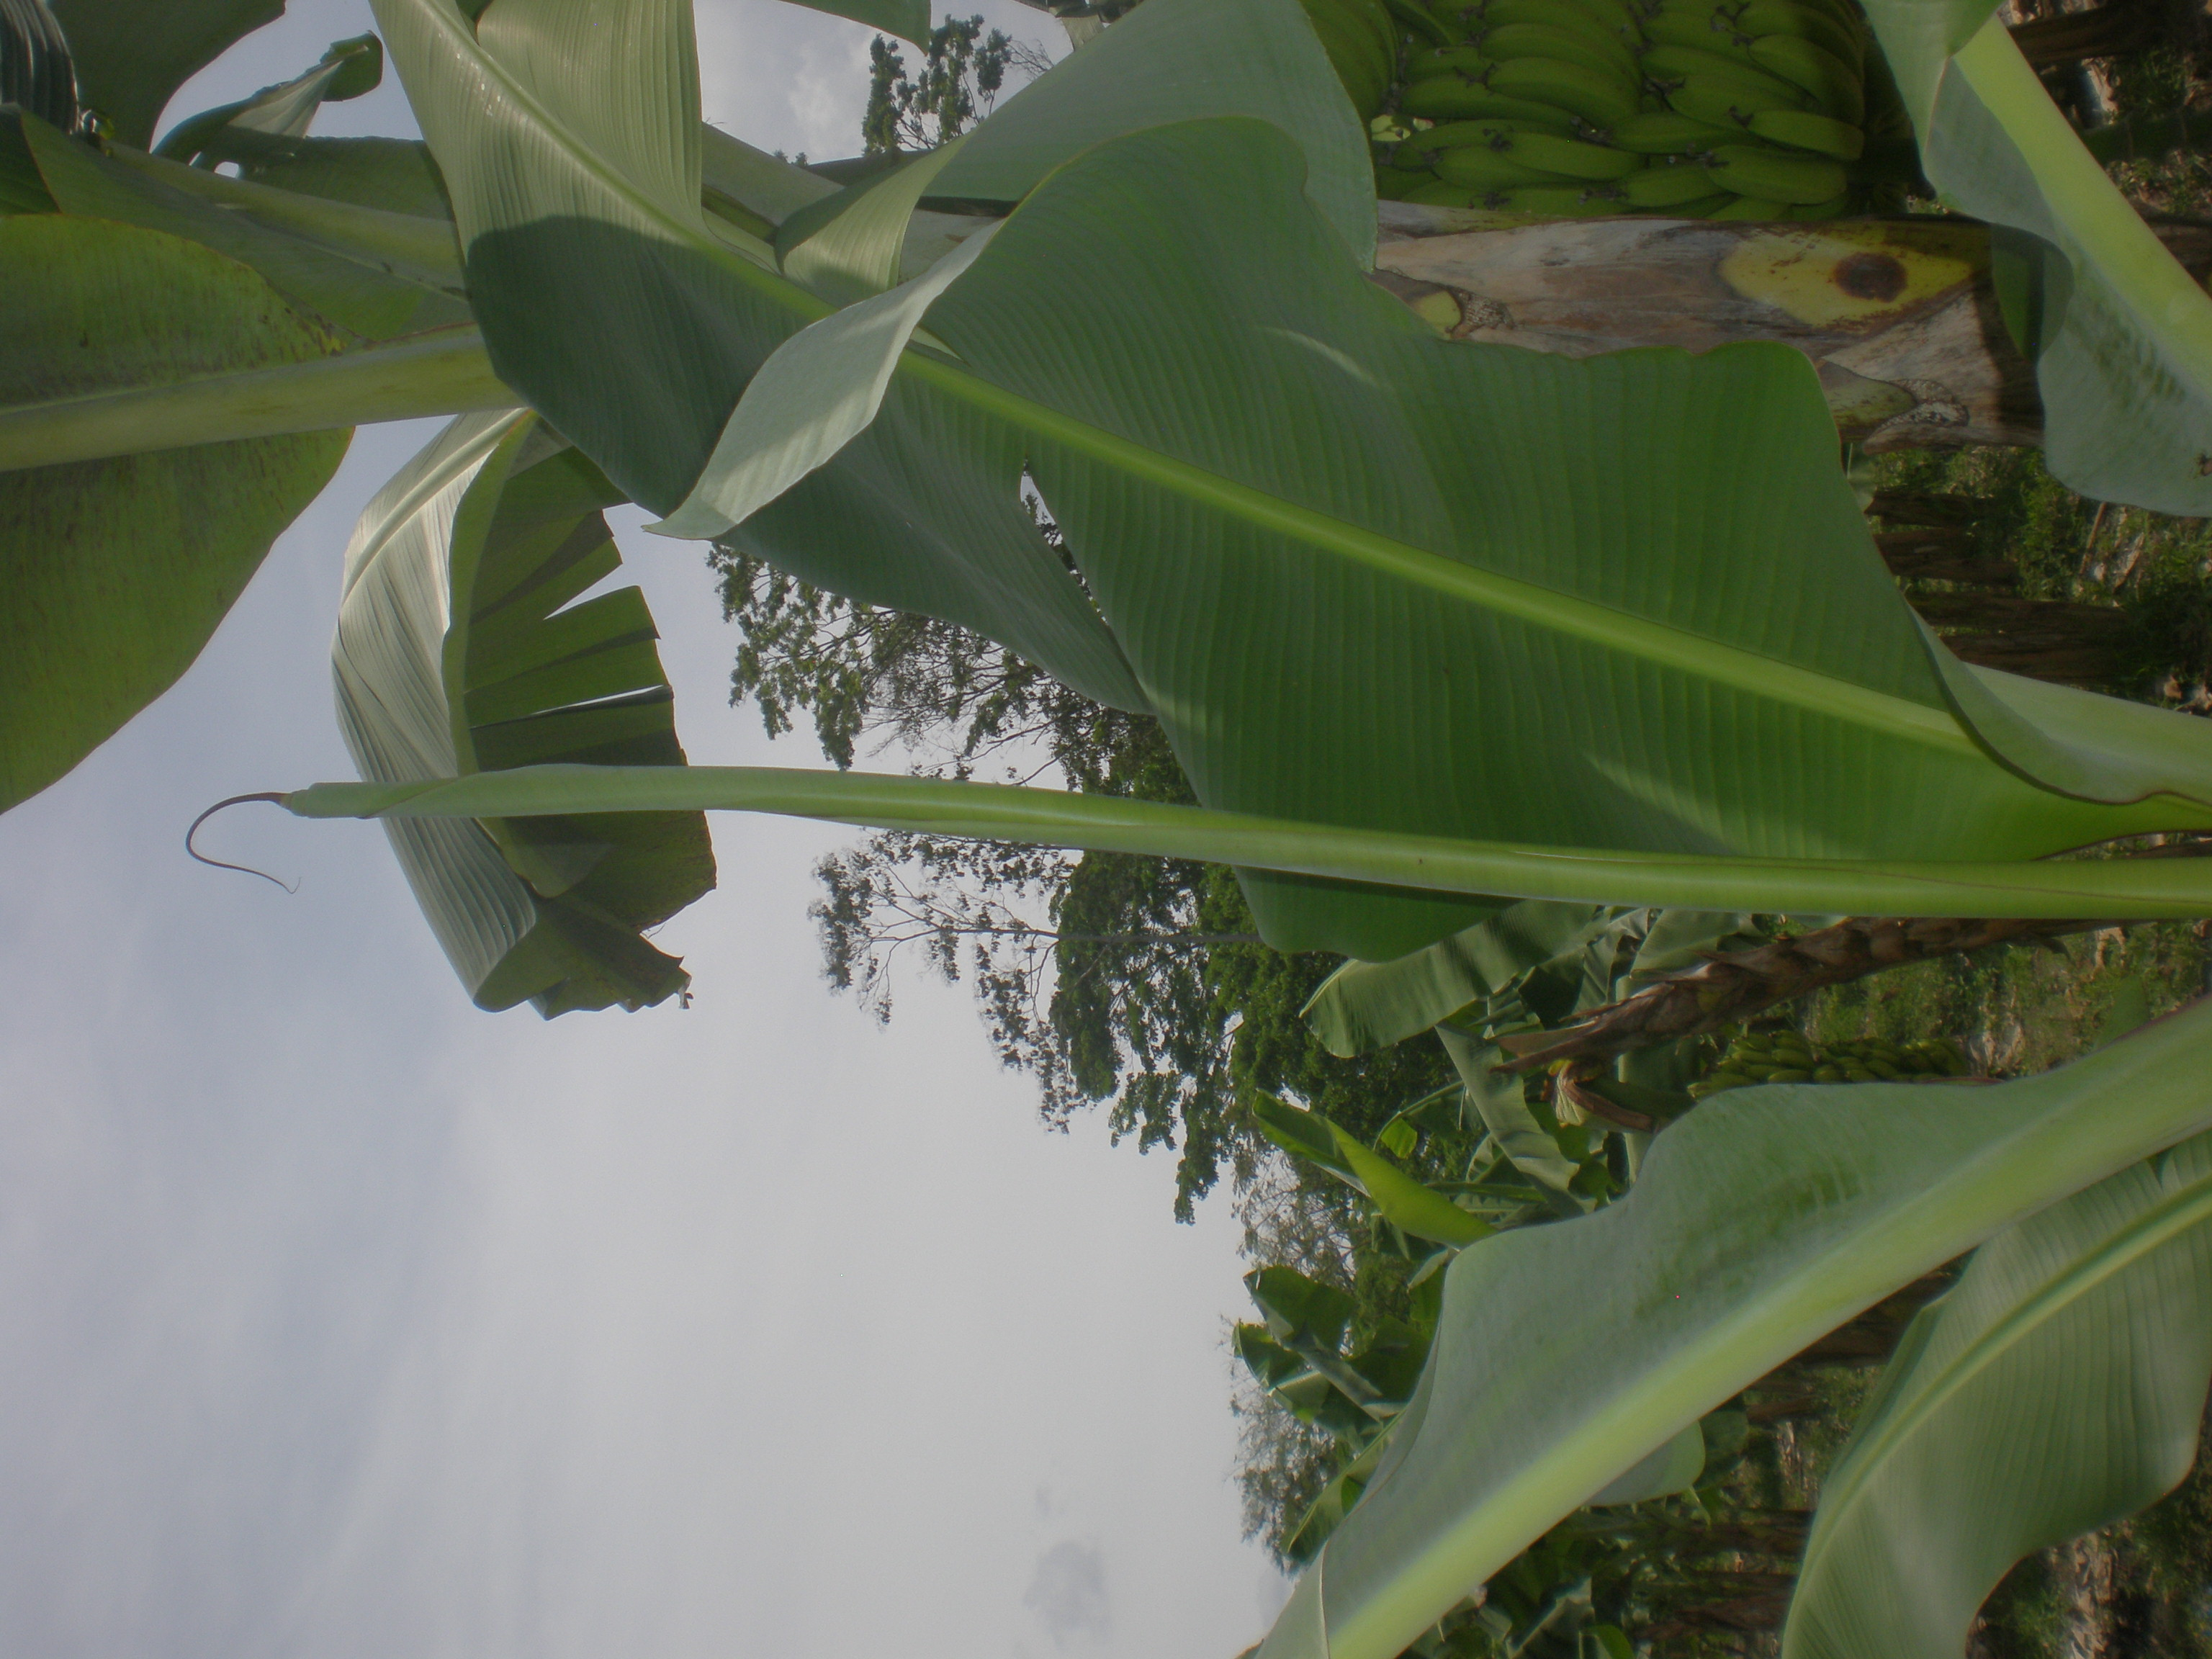candleleafs: (188, 755, 2205, 920)
